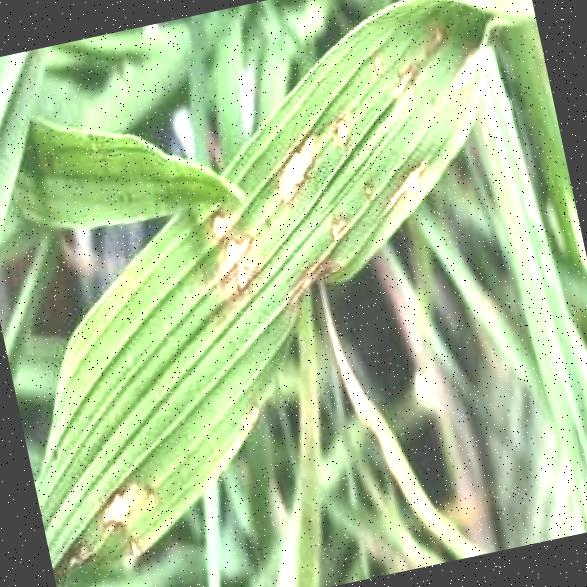Leaf_smut: (146, 98, 408, 332), (348, 0, 569, 224)
